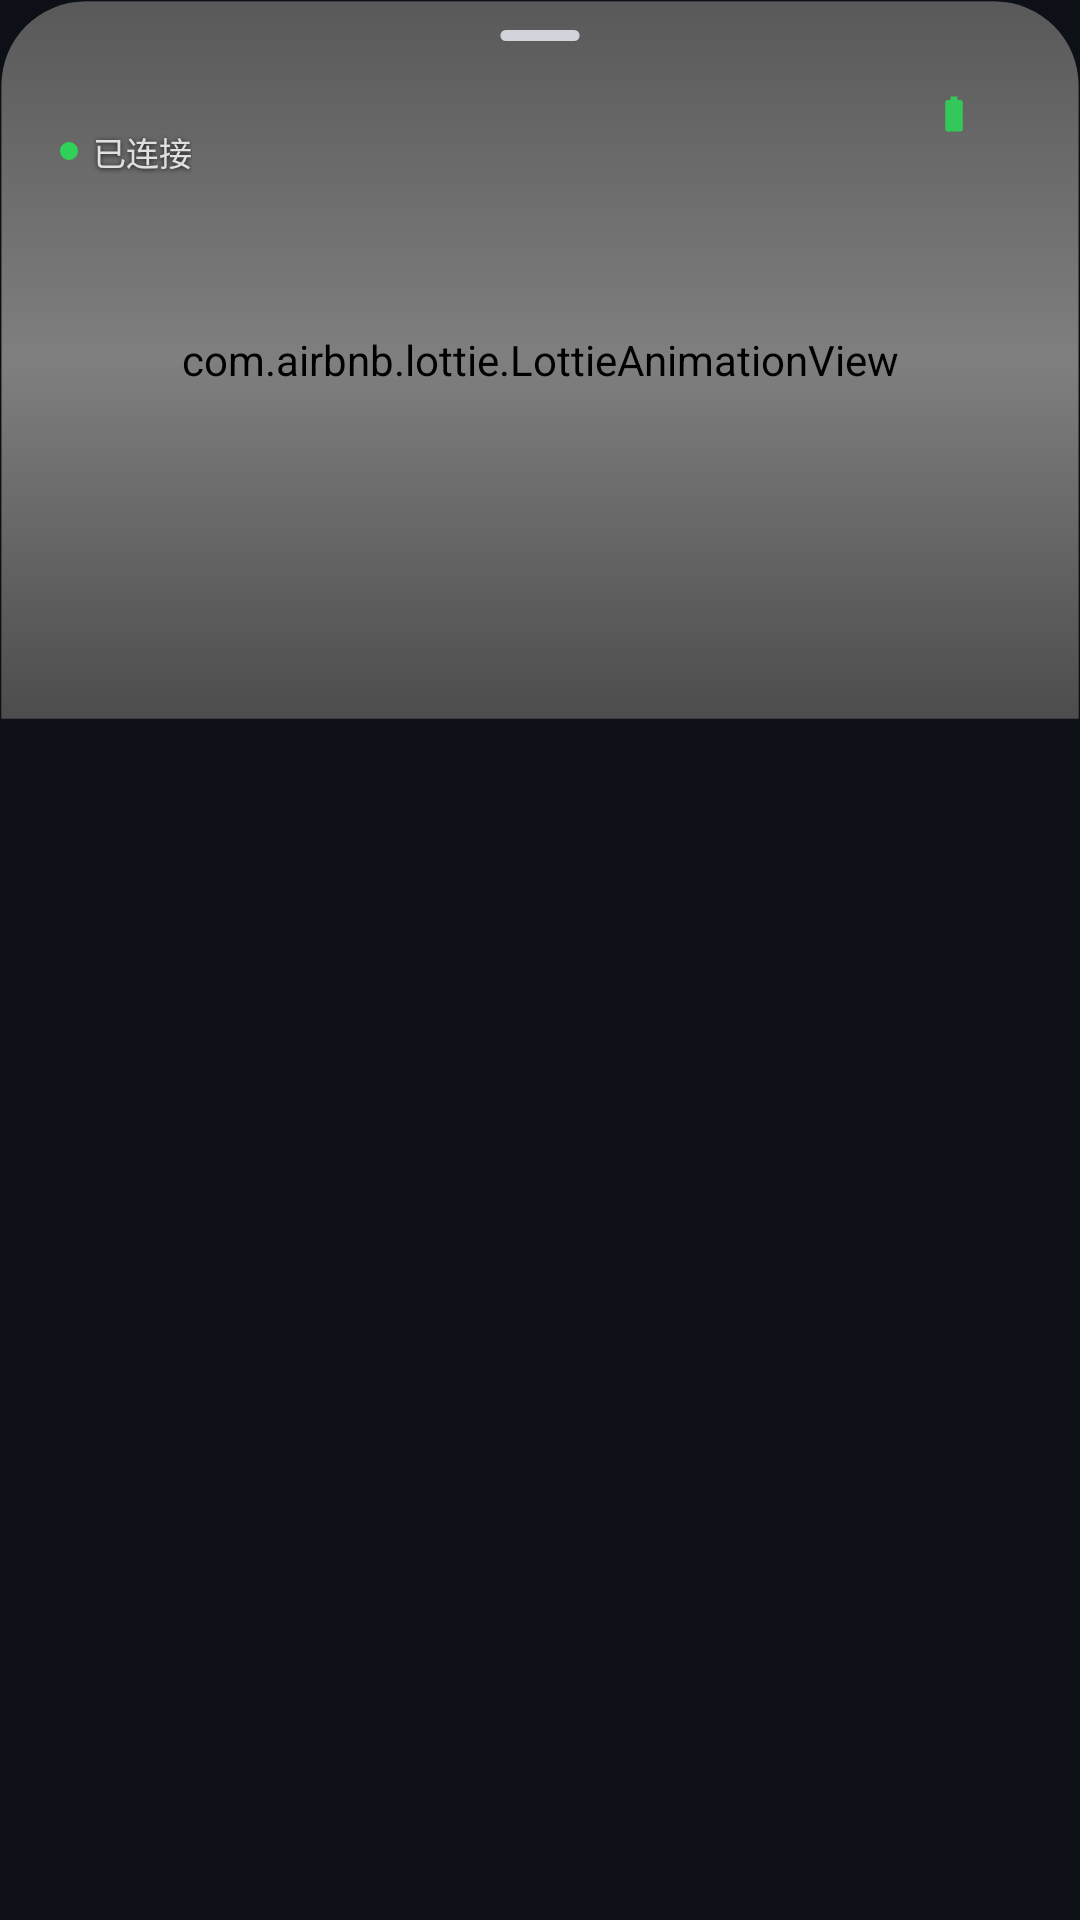

Icons on this 1080px×1920px Android screen, each with its box as (x1, y1, x2, y2):
Battery Level: (945, 96, 963, 132)
